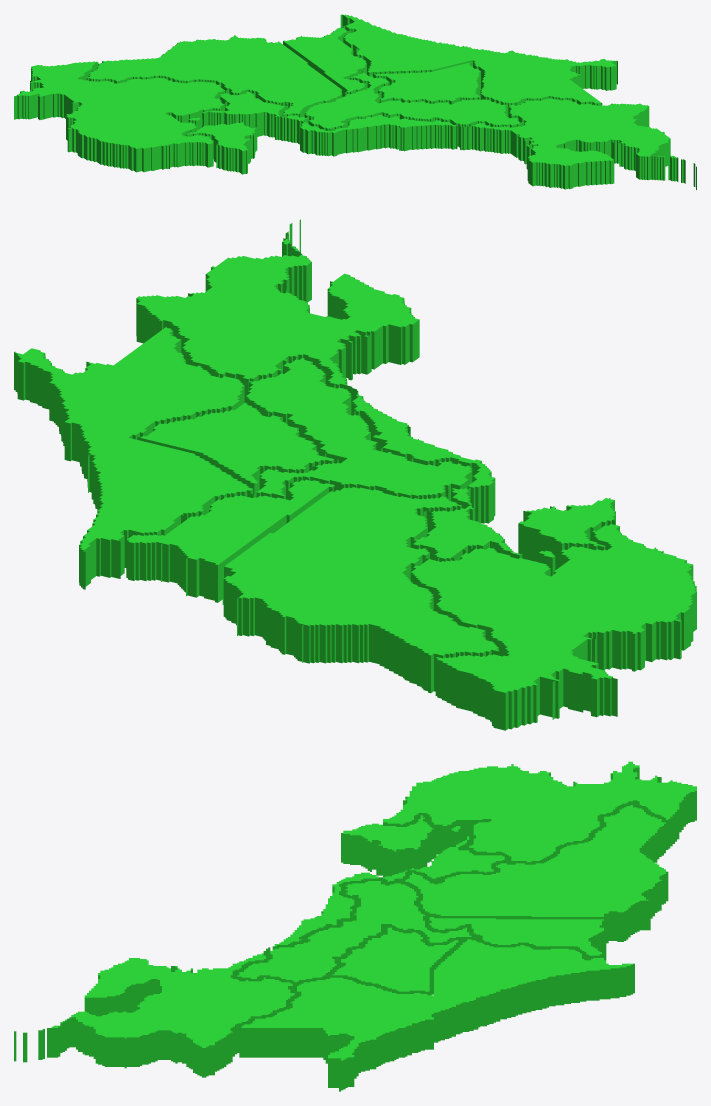
File: costa_rica.glb
3 renders of one model, top to bottom at view 1: azimuth 30°, elevation 25°; view 2: azimuth 150°, elevation 25°; view 3: azimuth 270°, elevation 25°, orthographic. The views are drawn at different scales.
Visible parts, largest first — view 1: Contorno; view 2: Contorno; view 3: Contorno.
Boxes of the visible parts, <box> form: Contorno: <box>14,14,696,189</box>; Contorno: <box>14,219,696,730</box>; Contorno: <box>14,761,696,1091</box>.
Bounding box in the file's own units: 3.81 × 0.1746 × 3.64.
